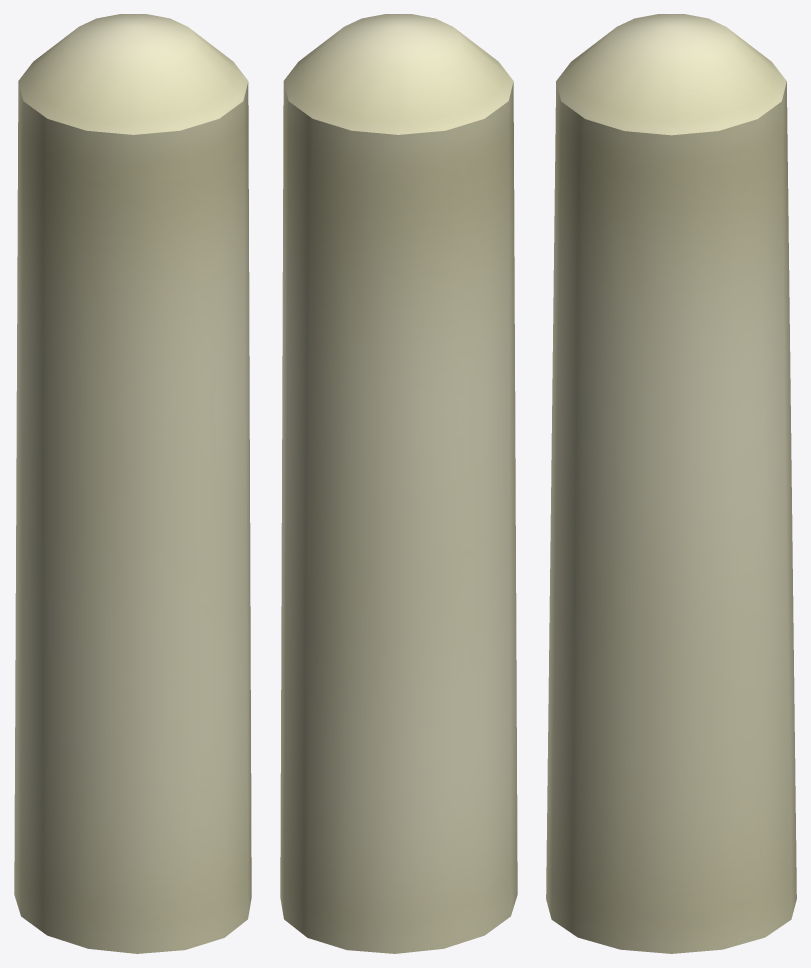
File: Chark.fbx
3 views of the same model, side by side, from view 1: azimuth 30°, elevation 25°; view 2: azimuth 150°, elevation 25°; view 3: azimuth 270°, elevation 25° (orthographic).
Visible parts, largest first — view 1: Chark; view 2: Chark; view 3: Chark.
Part boxes in pixels (box(x1,y1,x2,y2)): Chark: box(14, 14, 251, 953); Chark: box(280, 14, 517, 953); Chark: box(546, 14, 796, 953).
Size of the model in its own units: 0.3688 by 1.58 by 0.3978.
1 material, 1 textured.
